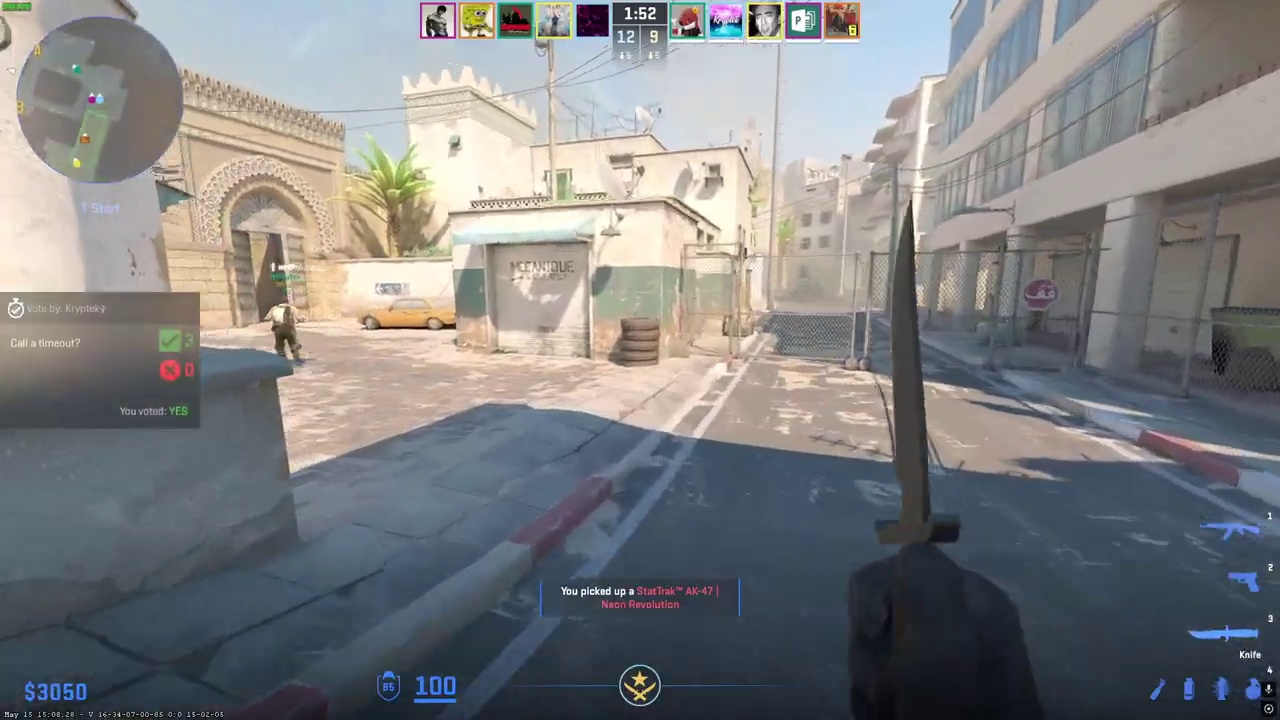Terrorist: (271, 300, 301, 361)
